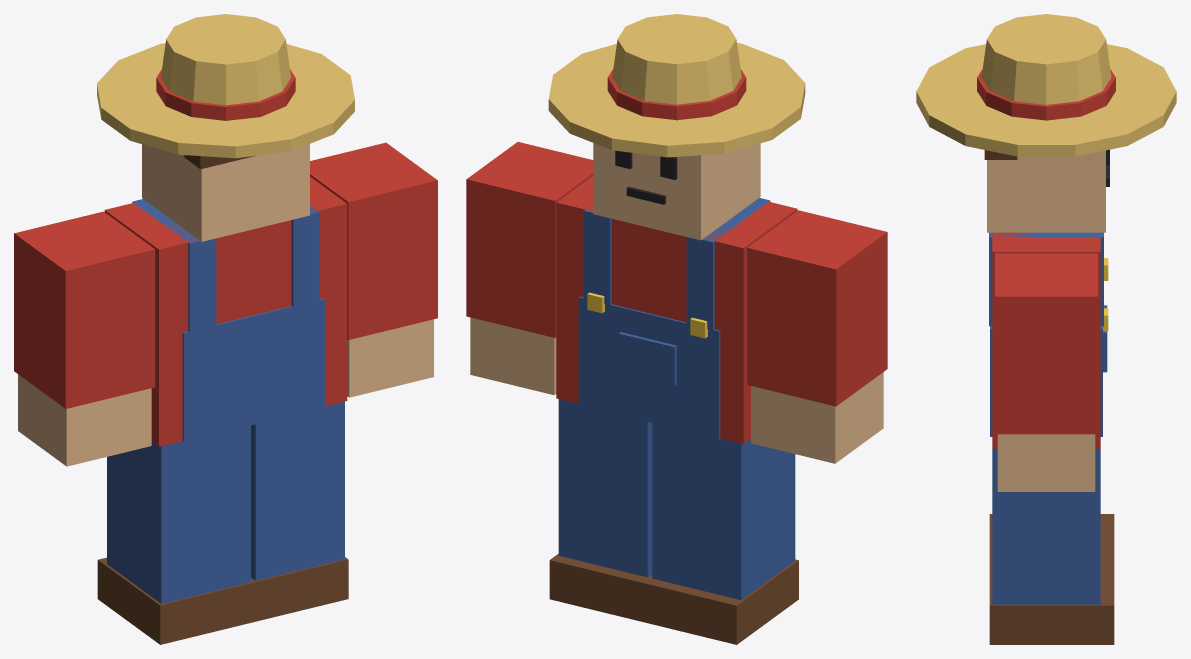
File: Farmhand.fbx
3 views of the same model, side by side, from view 1: azimuth 30°, elevation 25°; view 2: azimuth 150°, elevation 25°; view 3: azimuth 270°, elevation 25° (orthographic).
Parts seen in each view (by area): view 1: Farmhand; view 2: Farmhand; view 3: Farmhand.
Boxes of the visible parts, x1,y1,x2,y2 form: Farmhand: (14, 14, 437, 644); Farmhand: (466, 14, 887, 644); Farmhand: (916, 14, 1176, 644).
Bounding box in the file's own units: 111 × 160 × 67.2.
